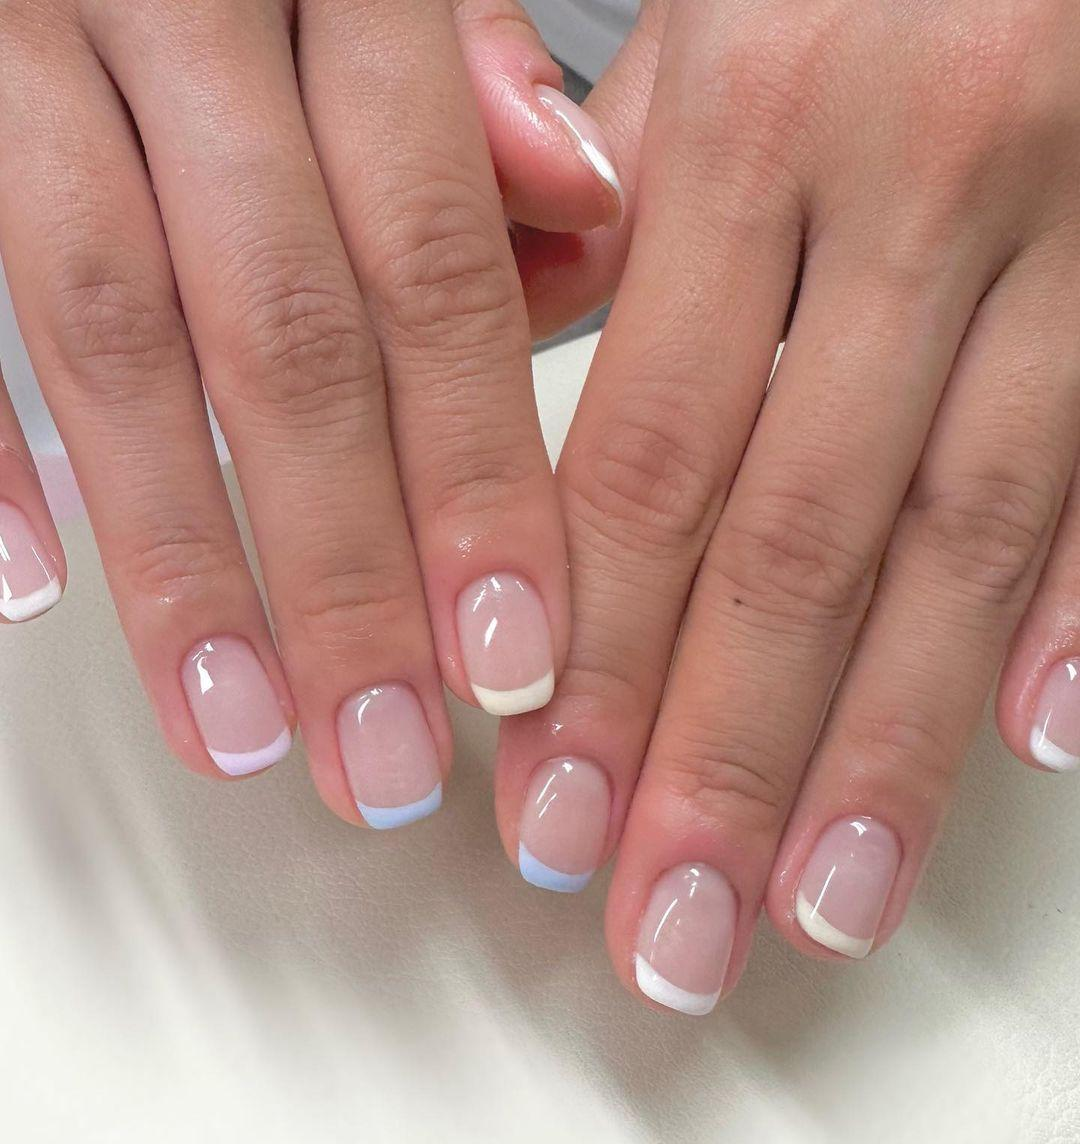nail: (631, 859, 739, 1016), (178, 630, 292, 777), (791, 812, 902, 959), (334, 678, 443, 829), (453, 568, 556, 716), (515, 753, 613, 893), (532, 81, 624, 211), (0, 495, 64, 622), (1027, 655, 1078, 772)
